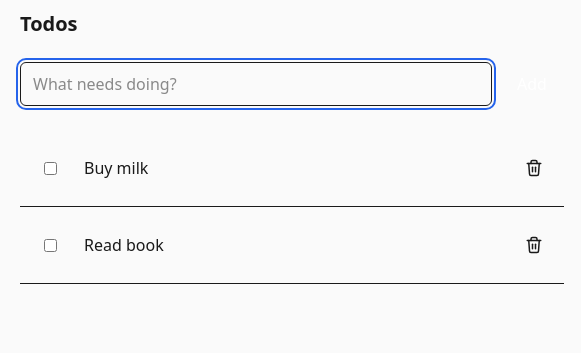
<App /> integration — full tree with mocked fetch › toggle active→completed renders optimistically and persists after refetch
This screenshot has width=581, height=353.
expect the text "Buy milk" is shown: met, box [84,157,148,179]
Click the checkbox named "Mark complete: Buy milk". click: point(50, 168)
box: [44,162,56,174]
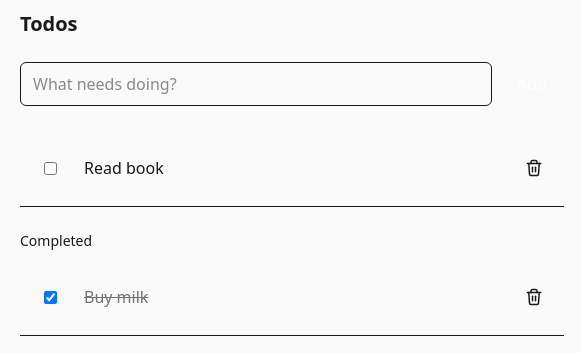
expect the heading "Completed" is shown: met, box [20,231,92,250]
expect the checkbox named "Mark incomplete: Buy milk" is shown: met, box [44,290,56,304]
